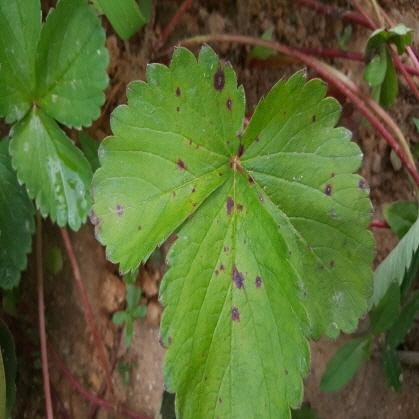Leaf Spot: (237, 65, 378, 343), (157, 166, 312, 418), (86, 42, 246, 275)
